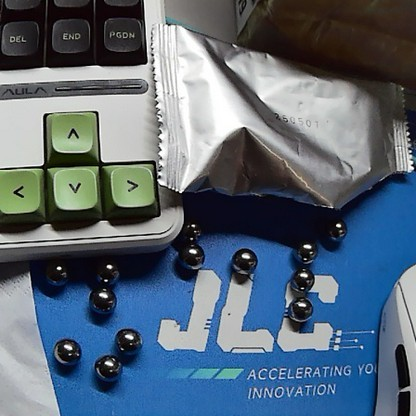ironball: (44, 331, 81, 373), (229, 247, 263, 286), (281, 264, 317, 298), (174, 236, 205, 272), (283, 294, 316, 324), (92, 252, 121, 284), (168, 218, 202, 243), (88, 281, 117, 310), (93, 354, 122, 383), (114, 323, 145, 350), (291, 236, 318, 264), (46, 261, 68, 288), (325, 216, 348, 240)
